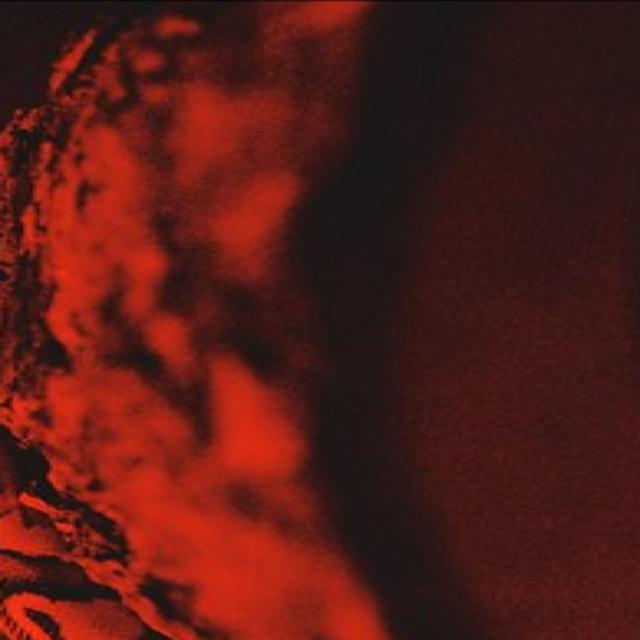Snake: (0, 325, 389, 640)
